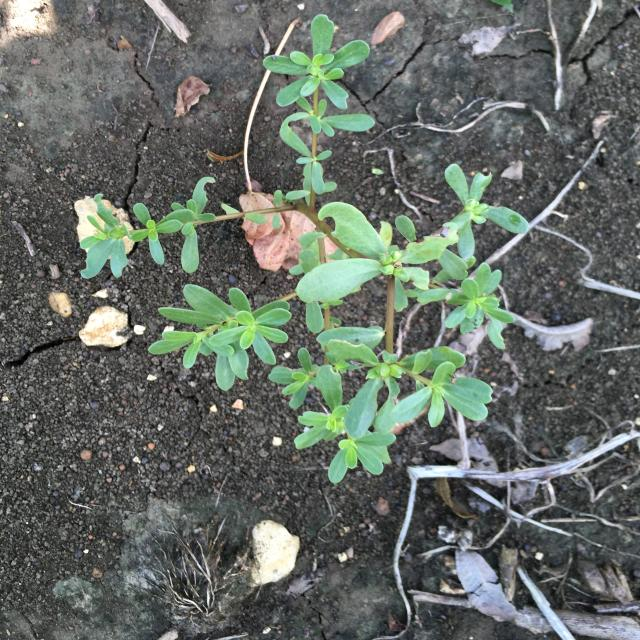Purslane: (81, 14, 530, 484)
